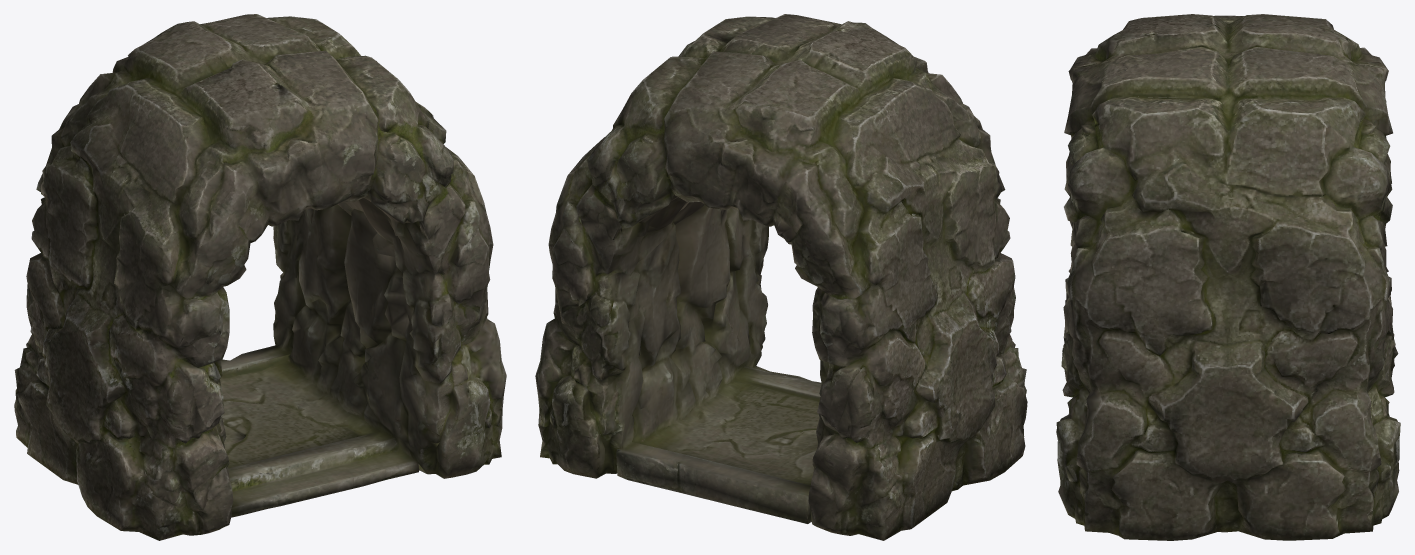
File: SealedArch.gltf
The picture shows the model from 3 angles, left to right: view 1: azimuth 30°, elevation 25°; view 2: azimuth 150°, elevation 25°; view 3: azimuth 270°, elevation 25°; orthographic projection.
Visible parts, largest first — view 1: lo; view 2: lo; view 3: lo.
Part boxes in pixels (<box>): lo: <box>14,14,506,540</box>; lo: <box>535,14,1027,540</box>; lo: <box>1056,14,1400,540</box>.
Size of the model in its own units: 10.67 by 10.63 by 8.18.
1 material, 1 textured.
